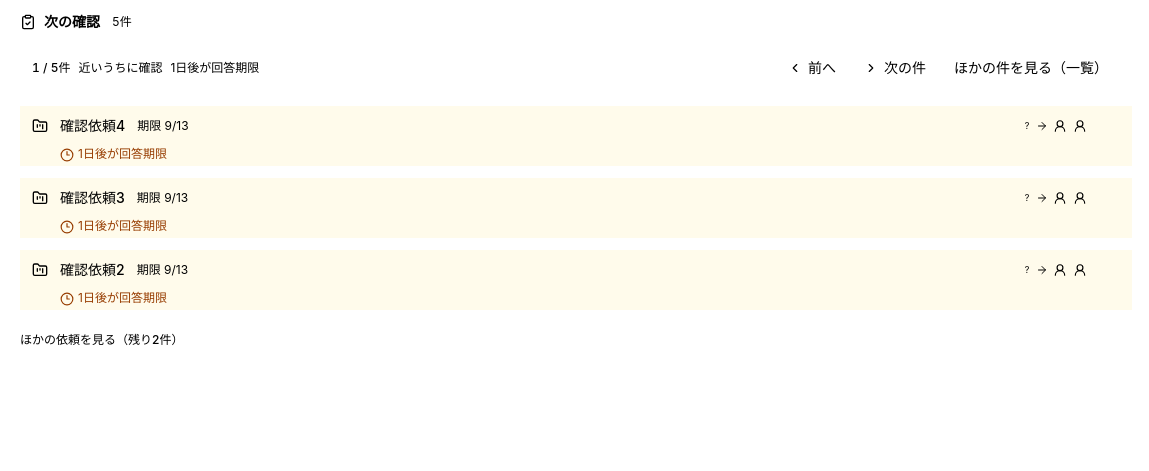
Test: NeoReviewRequests › shows three initially, expands locally, and resets the display count when the user changes
Expected: the number of links is 3, [28,110,1124,162]; [28,182,1124,234]; [28,254,1124,306]
Click the button "ほかの依頼を見る（残り2件）". click: (102, 340)
box: [8,324,195,356]
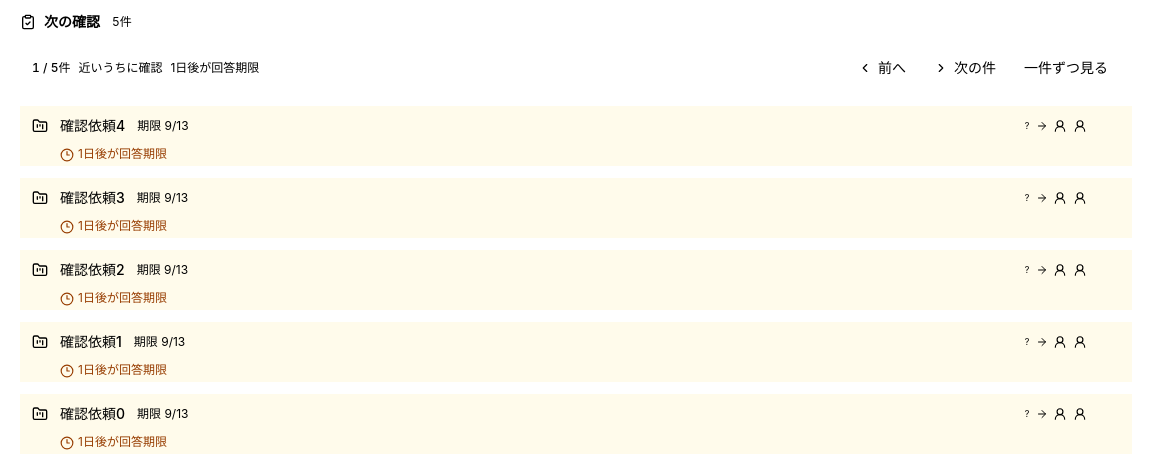
Expected: the number of links is 5, [28,110,1124,162]; [28,182,1124,234]; [28,254,1124,306]; [28,326,1124,378]; [28,398,1124,450]
